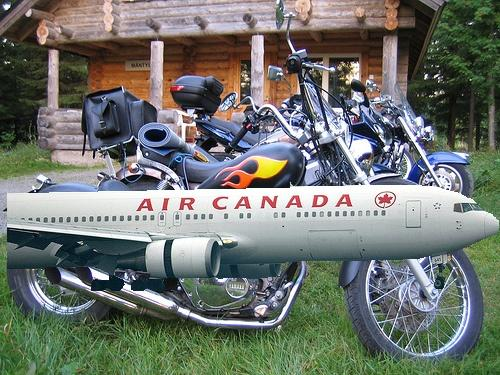tampered: (8, 183, 499, 291)
